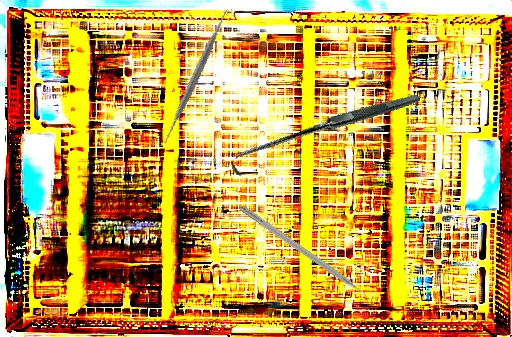Chopper: (234, 204, 376, 311)
Hook Surgical: (230, 41, 421, 228)
Spatula Surgical: (125, 7, 266, 146)
